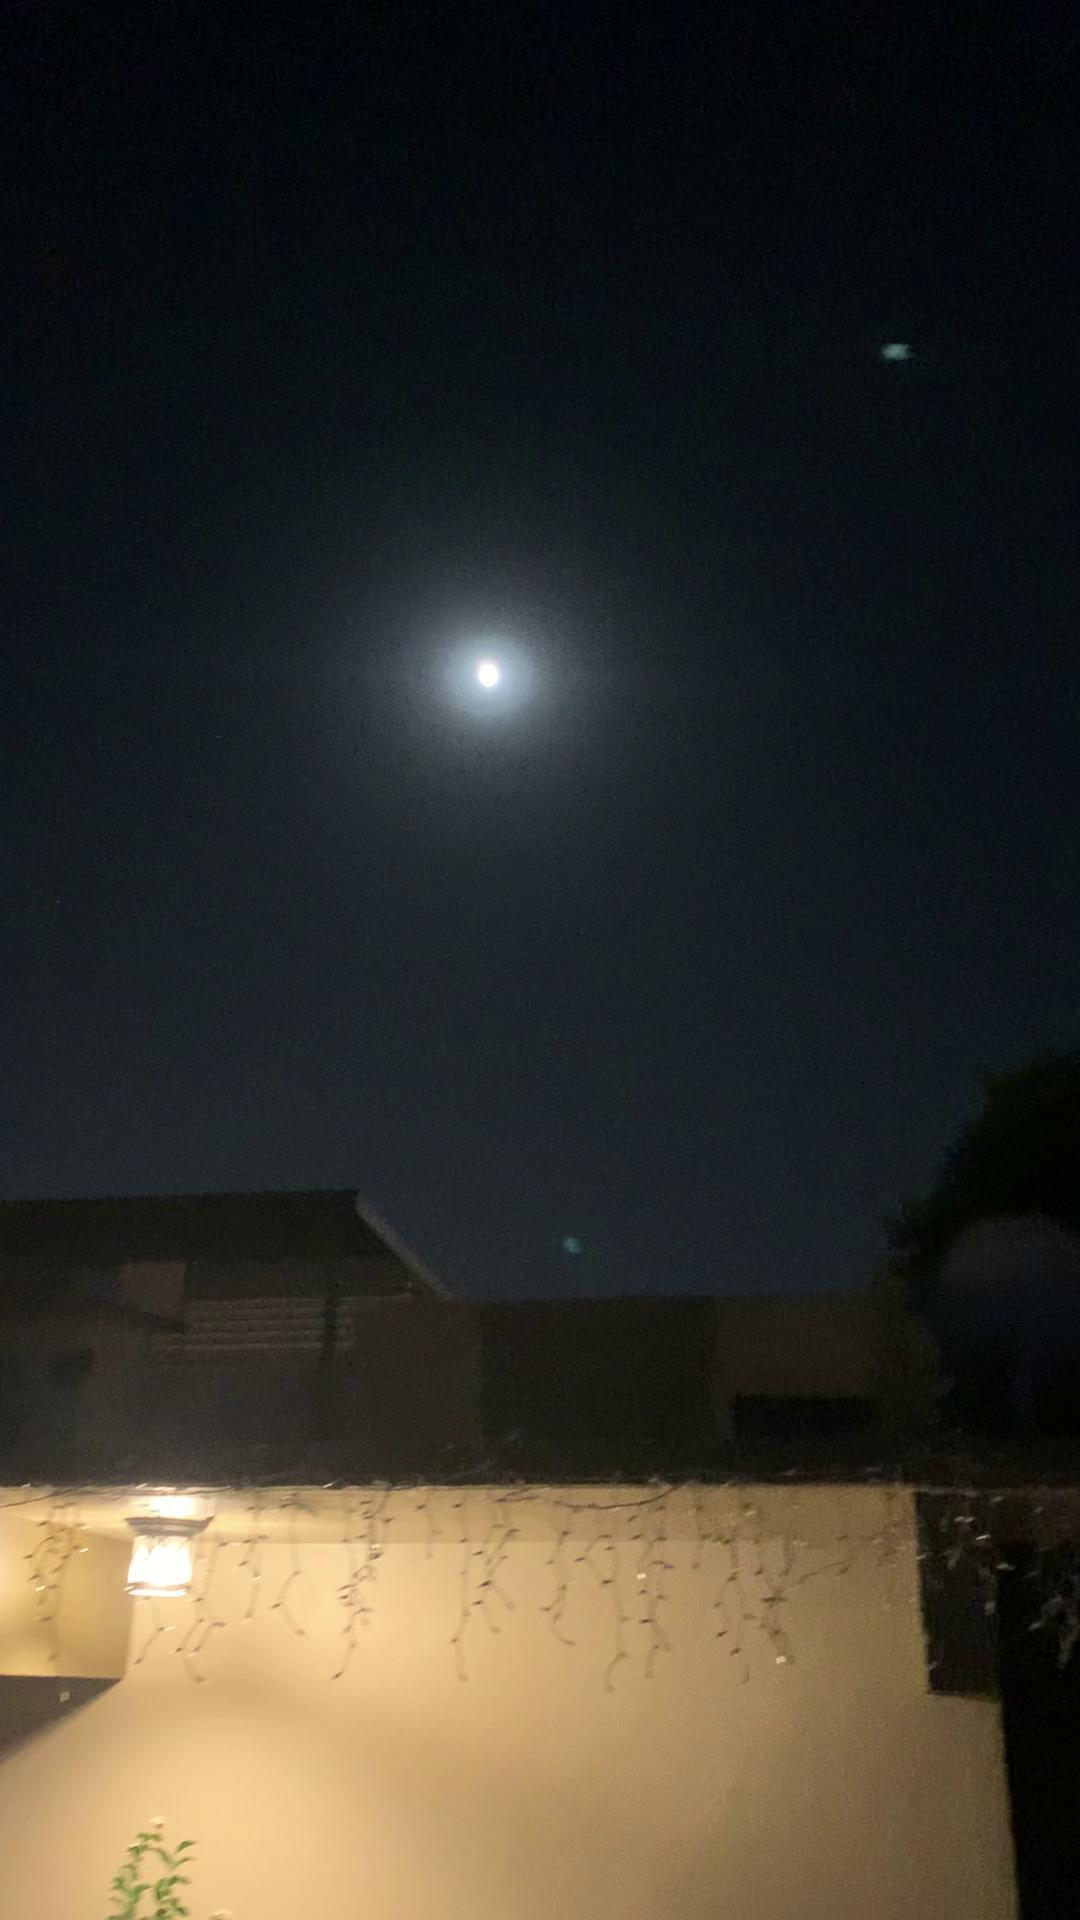moon: (463, 637, 550, 716)
